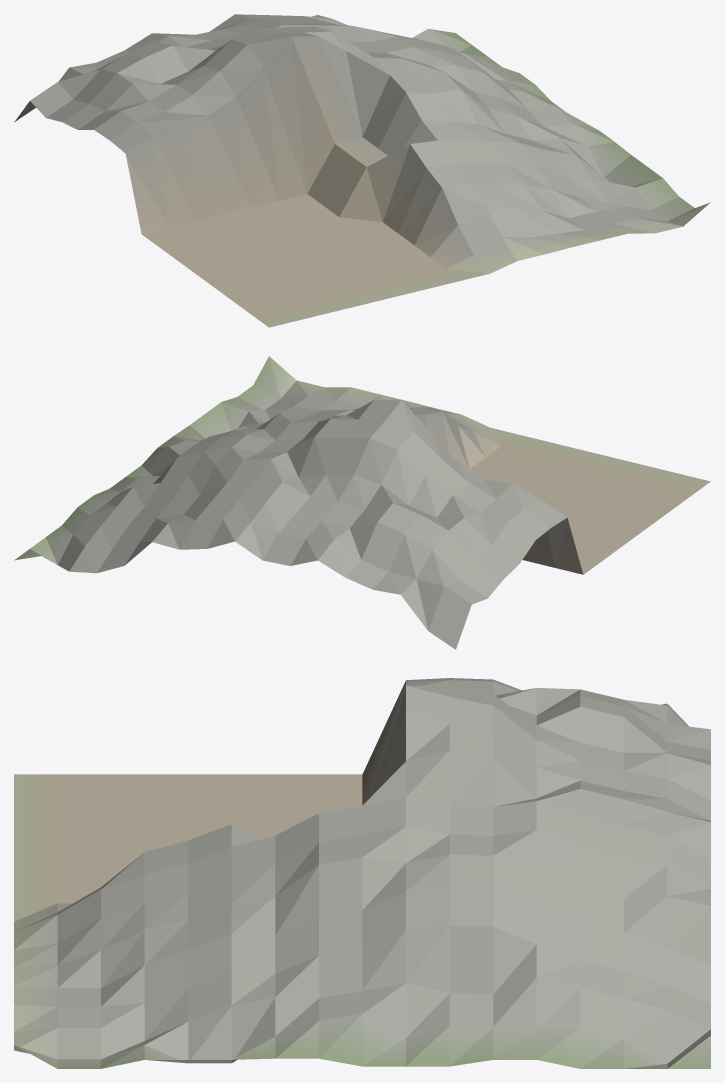
The picture shows the model from 3 angles, top to bottom: view 1: azimuth 30°, elevation 25°; view 2: azimuth 150°, elevation 25°; view 3: azimuth 270°, elevation 25°; orthographic projection. The views are drawn at different scales.
Size of the model in its own units: 32 by 10.76 by 32.
